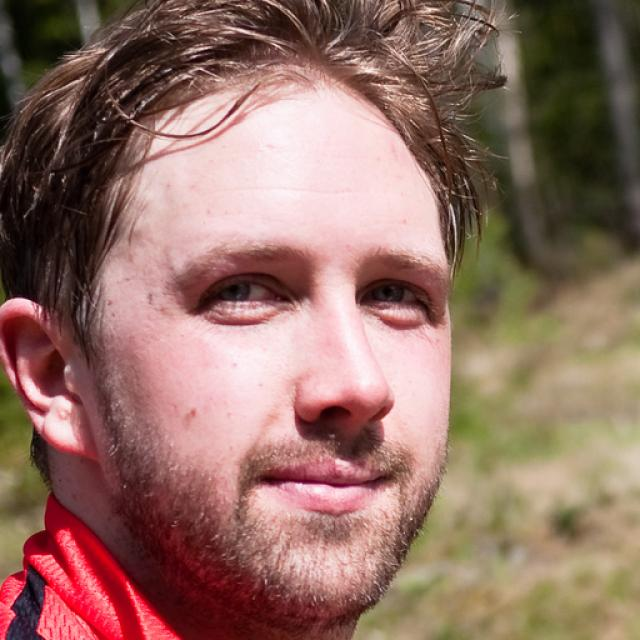Acne: (170, 401, 204, 422)
Wrinkle: (230, 175, 359, 198)
